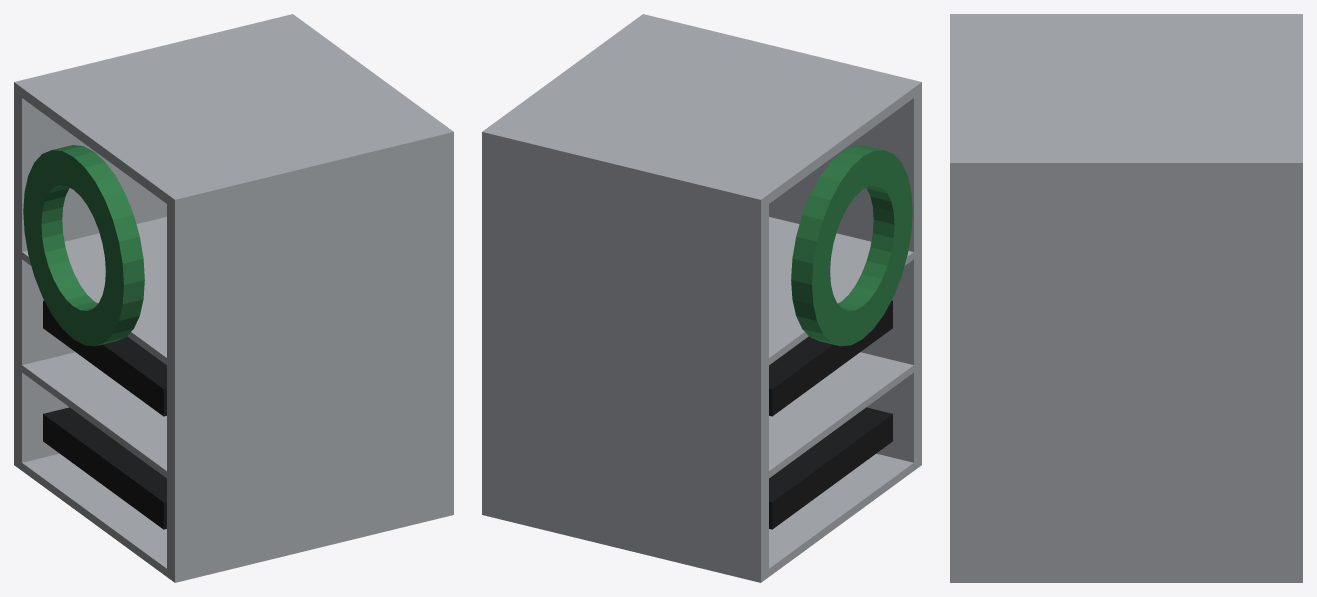
File: L130_REAR_PS2_USB2.fbx
3 renders of one model, left to right at view 1: azimuth 30°, elevation 25°; view 2: azimuth 150°, elevation 25°; view 3: azimuth 270°, elevation 25°, orthographic. The views are drawn at different scales.
Visible parts, largest first — view 1: REAR_PS2_USB2__Steel, REAR_PS2_USB2__Green, REAR_PS2_USB2__Plastic; view 2: REAR_PS2_USB2__Steel, REAR_PS2_USB2__Green, REAR_PS2_USB2__Plastic; view 3: REAR_PS2_USB2__Steel.
Part boxes in pixels (left/top/right/bottom): REAR_PS2_USB2__Steel: left=14, top=14, right=453, bottom=582; REAR_PS2_USB2__Green: left=23, top=145, right=144, bottom=346; REAR_PS2_USB2__Plastic: left=43, top=300, right=166, bottom=529; REAR_PS2_USB2__Steel: left=482, top=14, right=921, bottom=582; REAR_PS2_USB2__Green: left=791, top=145, right=912, bottom=346; REAR_PS2_USB2__Plastic: left=769, top=300, right=892, bottom=529; REAR_PS2_USB2__Steel: left=950, top=14, right=1302, bottom=582.
Size of the model in its own units: 17.2 by 21 by 16.
